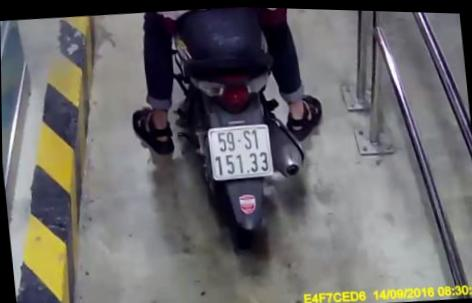LP: (206, 119, 274, 181)
